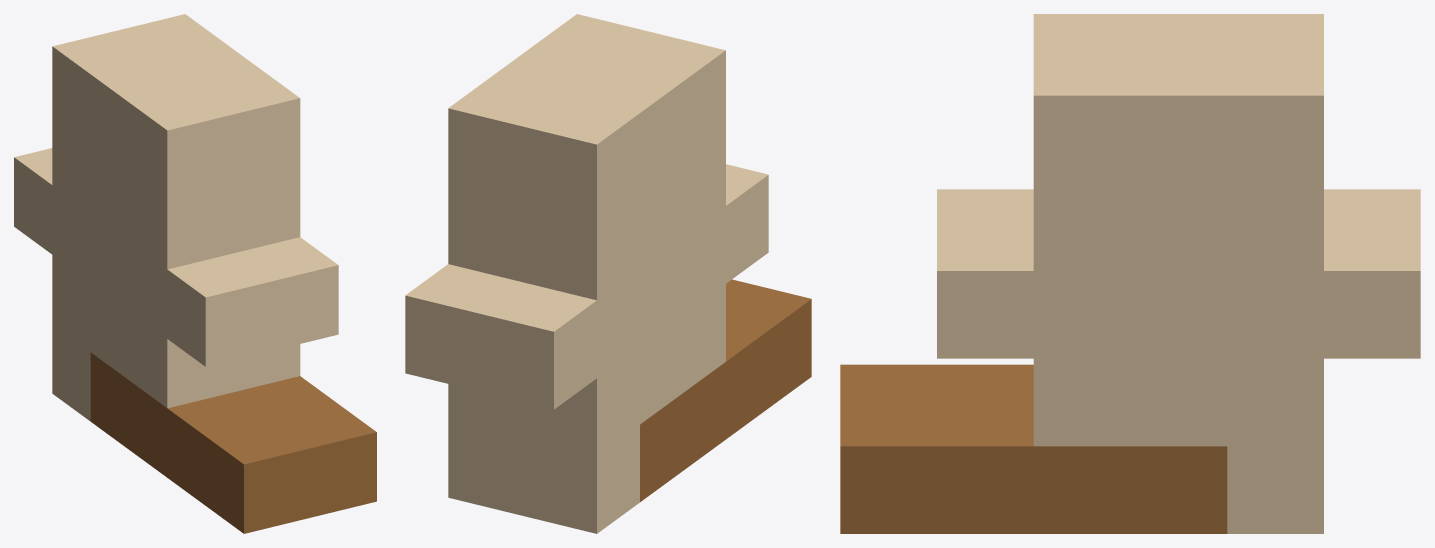
File: meerkat__leg_bl.glb
The picture shows the model from 3 angles, left to right: view 1: azimuth 30°, elevation 25°; view 2: azimuth 150°, elevation 25°; view 3: azimuth 270°, elevation 25°; orthographic projection. The views are drawn at different scales.
Visible parts, largest first — view 1: meerkat__leg_bl; view 2: meerkat__leg_bl; view 3: meerkat__leg_bl.
Part boxes in pixels (<box>): meerkat__leg_bl: <box>14,14,376,533</box>; meerkat__leg_bl: <box>405,14,811,533</box>; meerkat__leg_bl: <box>840,14,1420,533</box>.
Bounding box in the file's own units: 0.2 × 0.5 × 0.6.
Materials: 1 (1 with a texture image).
